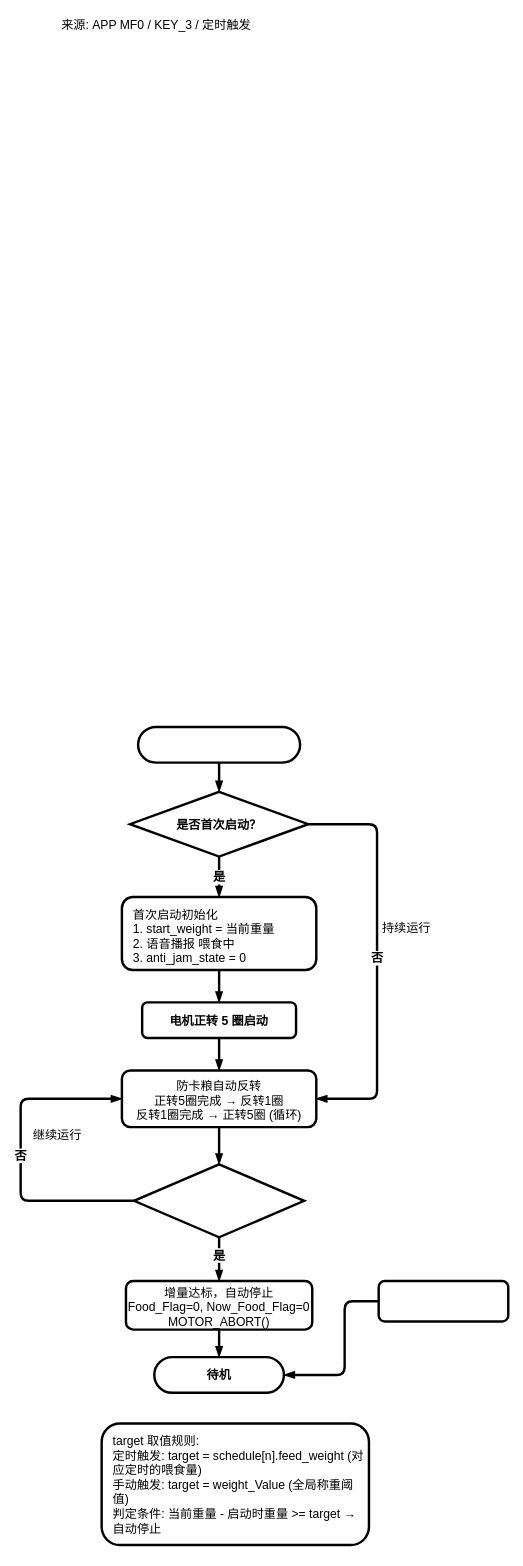
Image size: 523x1566. Some labels were removed from this diagram. The centre of each missing label's shape, as x and y in pixels:
喂食量是否达标？: the point at 218,1200
手动停止 APP MF1 / KEY_4: the point at 443,1300
用户触发喂食: the point at 218,744
